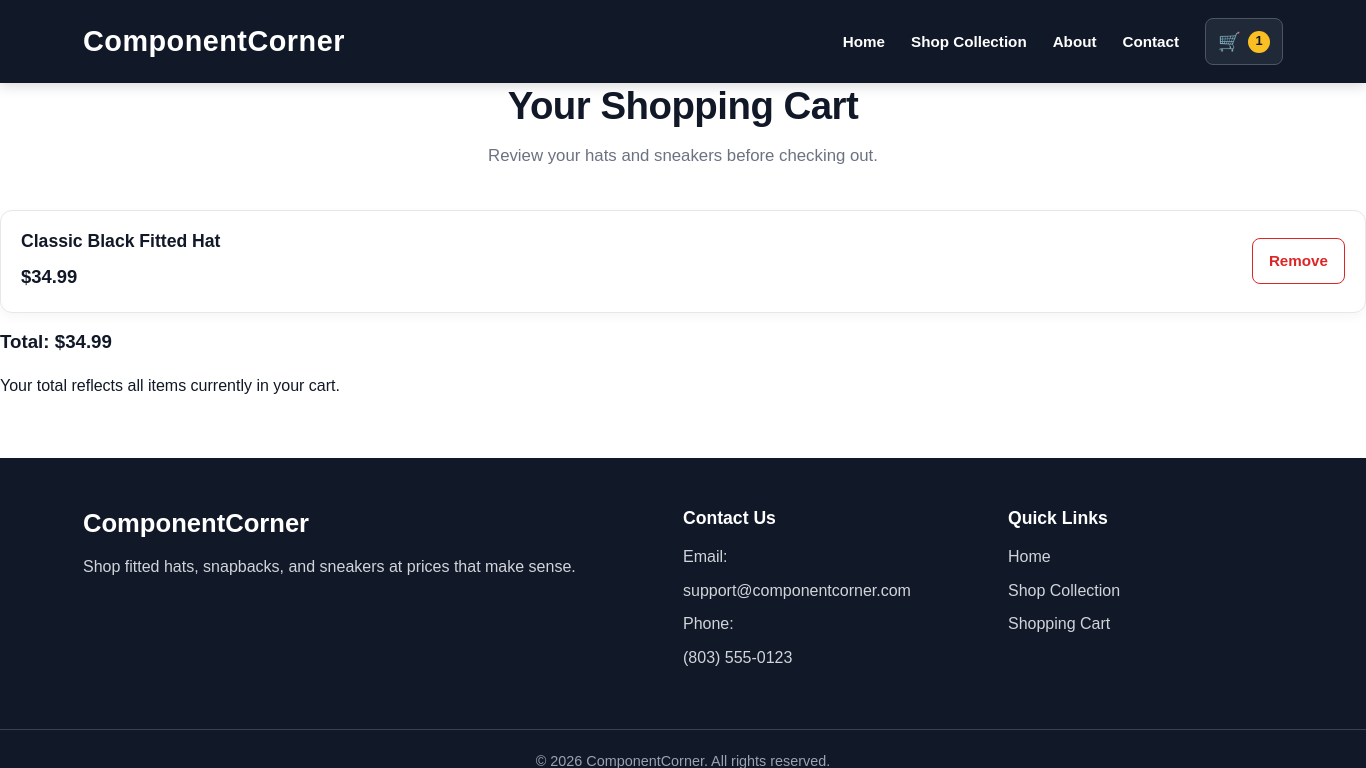
Test: App › removes a product from the cart and saves the change
Click the button with aria-label "remove classic black fitted hat" at point(1298, 261), box x1=1252 y1=238 x2=1345 y2=284
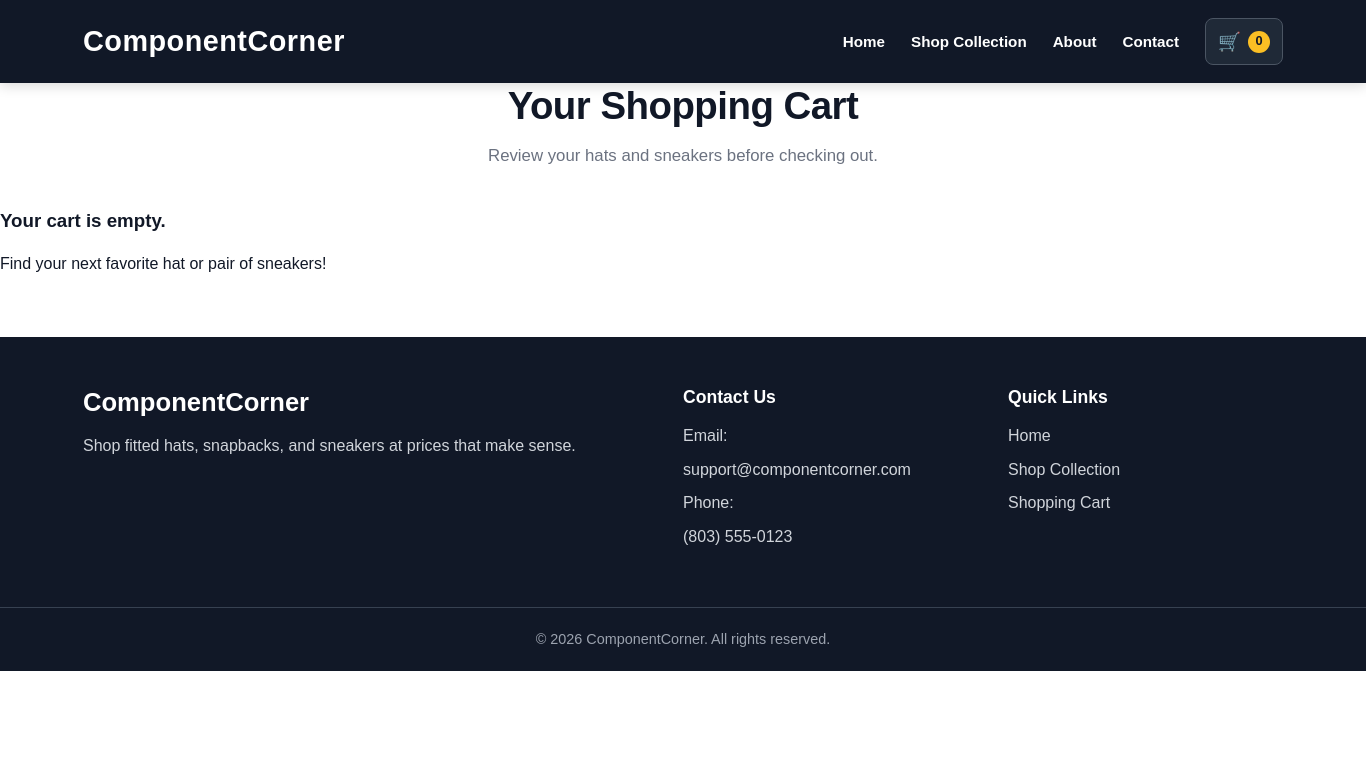
Result: the heading "Your cart is empty." is shown at x1=0 y1=210 x2=166 y2=231
